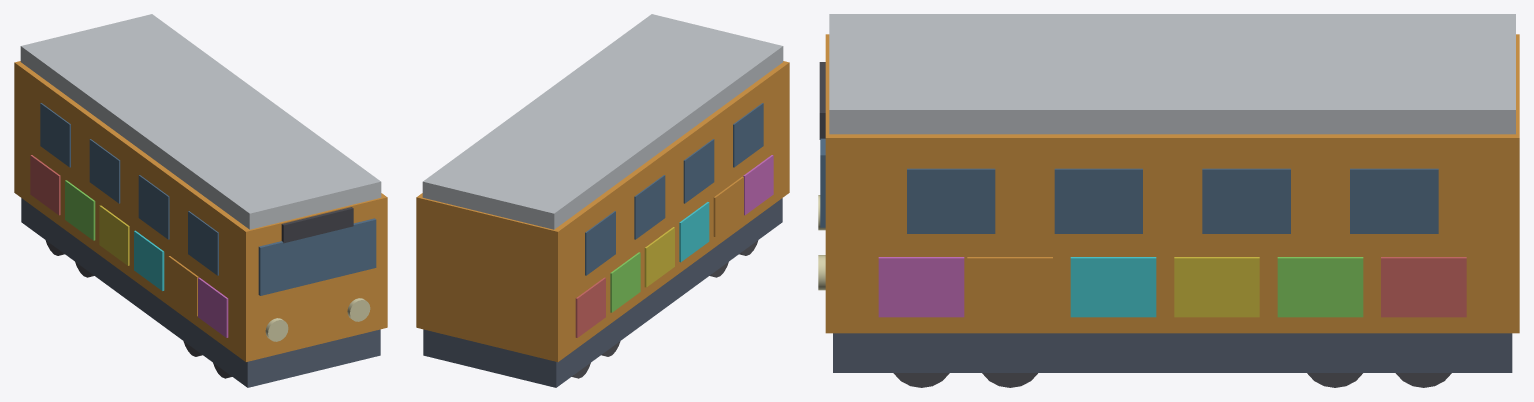
File: 10_subway_train.glb
3 renders of one model, left to right at view 1: azimuth 30°, elevation 25°; view 2: azimuth 150°, elevation 25°; view 3: azimuth 270°, elevation 25°, orthographic. The views are drawn at different scales.
Visible parts, largest first — view 1: SubwayTrain; view 2: SubwayTrain; view 3: SubwayTrain.
Boxes of the visible parts, x1,y1,x2,y2 form: SubwayTrain: (14,14,387,387); SubwayTrain: (416,14,789,387); SubwayTrain: (818,14,1519,387).
Size of the model in its own units: 1.7 by 2.09 by 4.75.
